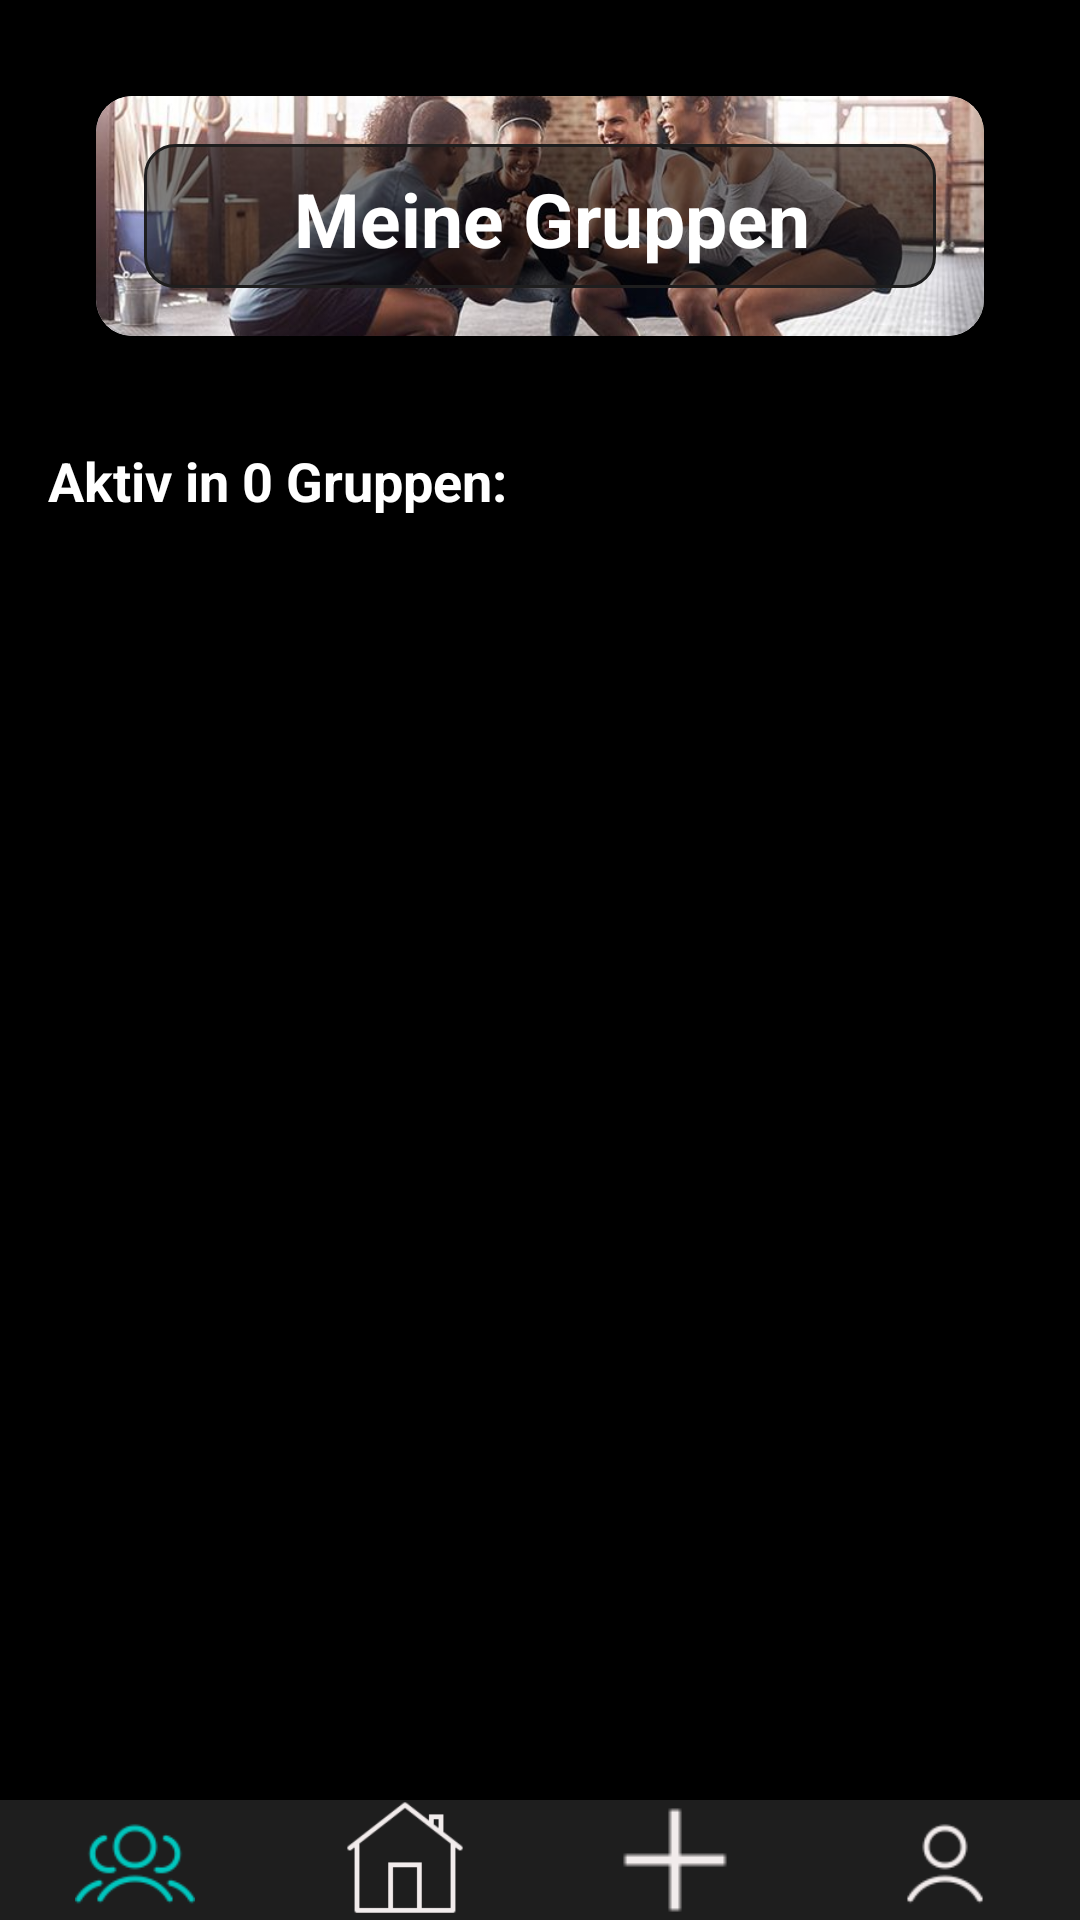

Icons on this 1080*1920 Android screen, each with its box as (x1, y1, x2, y2):
add: (623, 1808, 727, 1912)
home: (347, 1802, 463, 1913)
profile: (907, 1824, 983, 1903)
